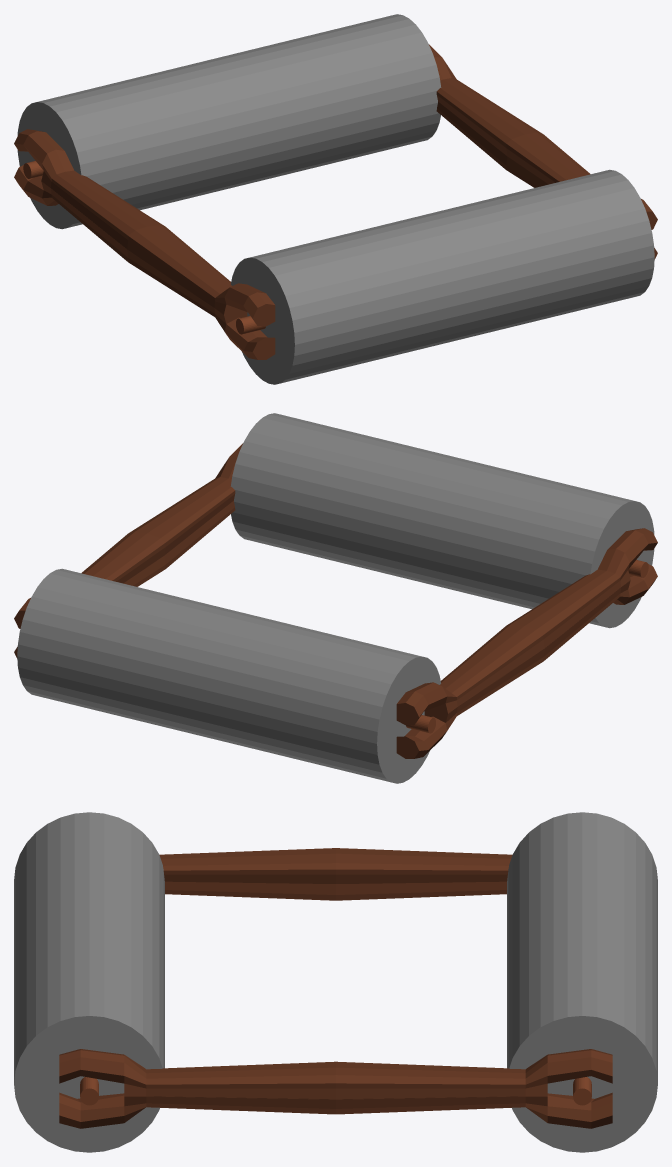
Rendered from flistonesrodinha.fbx.
3 views of the same model, one above another, from view 1: azimuth 30°, elevation 25°; view 2: azimuth 150°, elevation 25°; view 3: azimuth 270°, elevation 25° (orthographic). The views are drawn at different scales.
Visible parts, largest first — view 1: Cylinder; view 2: Cylinder; view 3: Cylinder.
Part boxes in pixels (left/top/right/bottom): Cylinder: left=14, top=14, right=657, bottom=384; Cylinder: left=14, top=413, right=657, bottom=783; Cylinder: left=14, top=812, right=657, bottom=1152.
Size of the model in its own units: 223 by 60.35 by 257.
